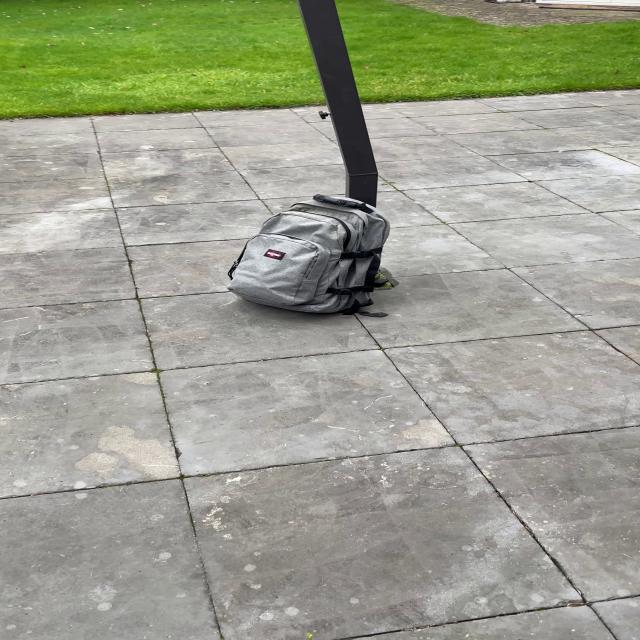backpack: (219, 190, 399, 318)
